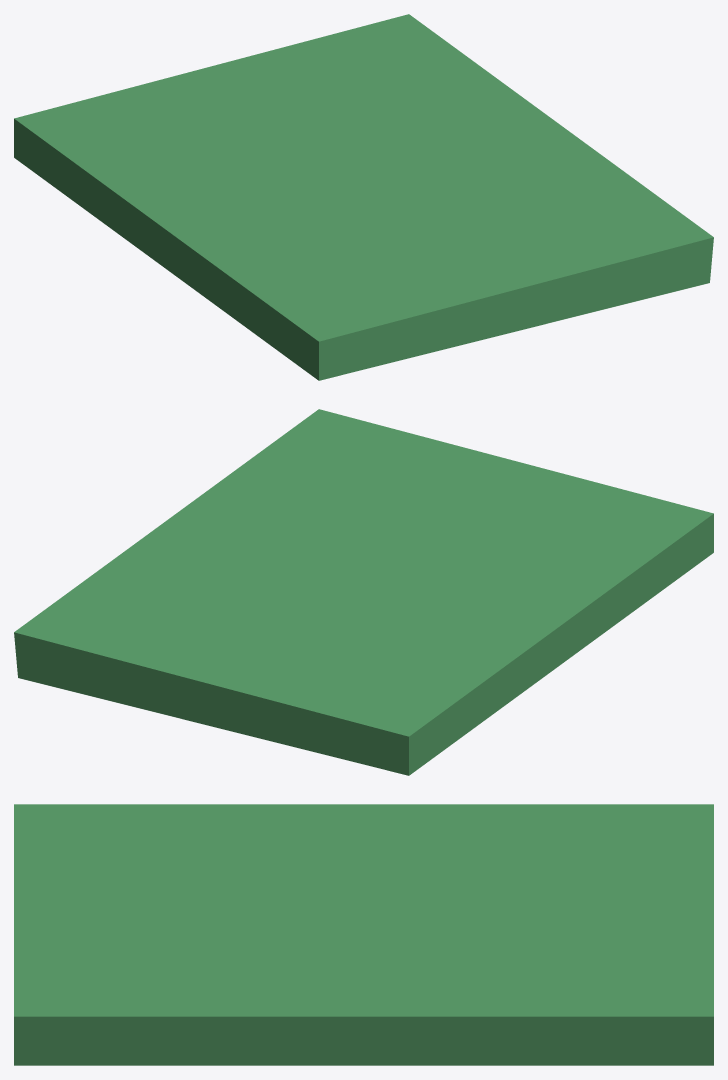
3 views of the same model, one above another, from view 1: azimuth 30°, elevation 25°; view 2: azimuth 150°, elevation 25°; view 3: azimuth 270°, elevation 25° (orthographic). The views are drawn at different scales.
Size of the model in its own units: 4.07 by 0.4642 by 5.44.
